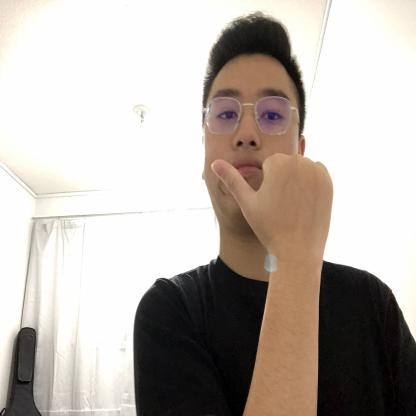right: (206, 148, 336, 264)
